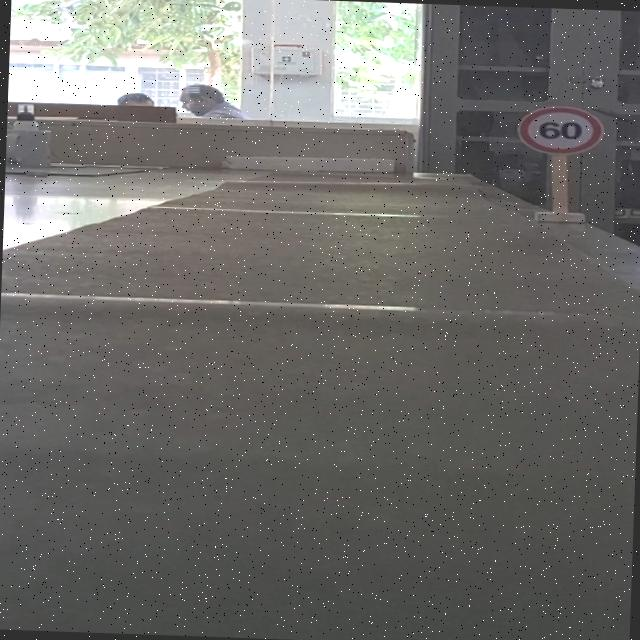Speed60: (513, 102, 606, 158)
